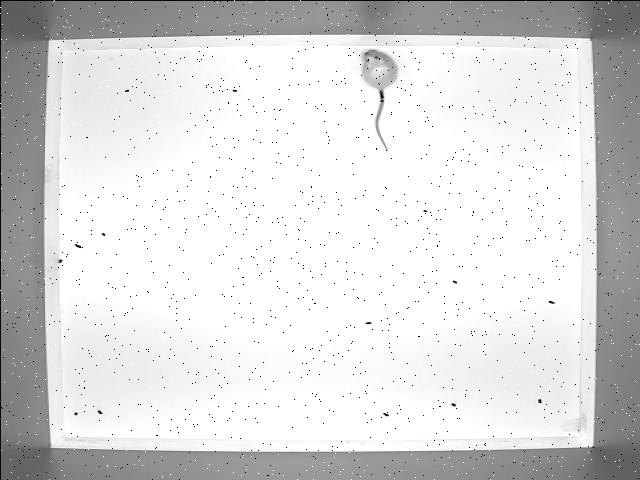Tikus: (359, 50, 396, 150)
